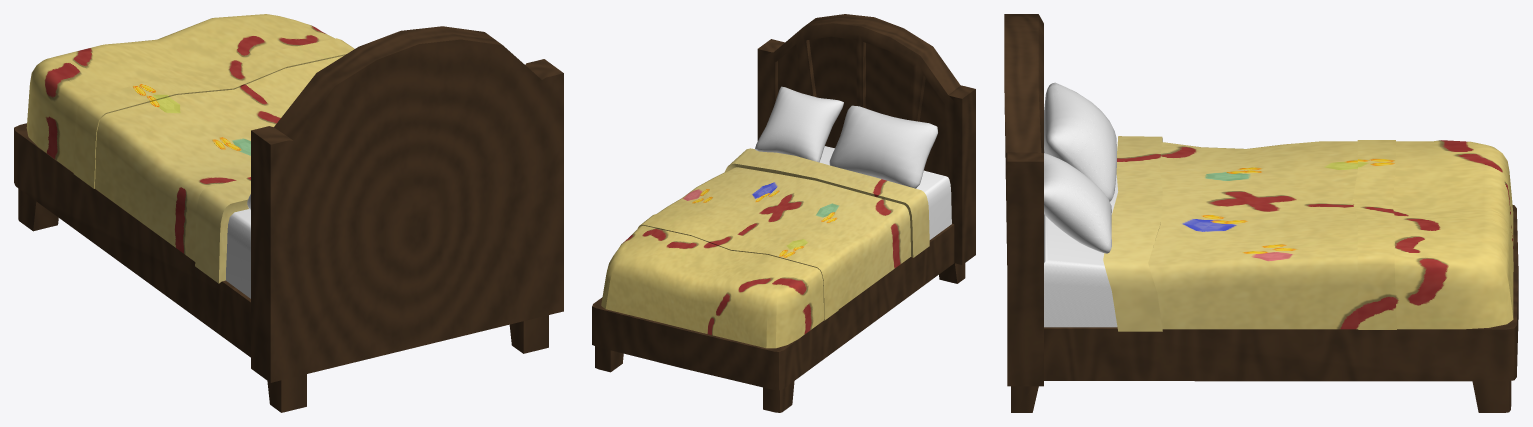
Rendered from Terromino - Bed.fbx.
3 renders of one model, left to right at view 1: azimuth 30°, elevation 25°; view 2: azimuth 150°, elevation 25°; view 3: azimuth 270°, elevation 25°, orthographic. The views are drawn at different scales.
Parts seen in each view (by area): view 1: Bed_Board, Bed_Sheets, Bed_Mattress; view 2: Bed_Sheets, Bed_Board, Bed_Pillow_Large, Bed_Pilow_Large, Bed_Mattress; view 3: Bed_Sheets, Bed_Board, Bed_Mattress, Bed_Pillow_Large, Bed_Pilow_Large.
Boxes of the visible parts, left/top/right/bottom form: Bed_Board: left=14, top=26, right=563, bottom=412; Bed_Sheets: left=26, top=14, right=354, bottom=283; Bed_Mattress: left=225, top=209, right=250, bottom=298; Bed_Sheets: left=601, top=148, right=929, bottom=348; Bed_Board: left=592, top=14, right=975, bottom=412; Bed_Pillow_Large: left=829, top=105, right=937, bottom=188; Bed_Pilow_Large: left=755, top=86, right=843, bottom=162; Bed_Mattress: left=819, top=146, right=951, bottom=239; Bed_Sheets: left=1103, top=136, right=1513, bottom=331; Bed_Board: left=1004, top=14, right=1518, bottom=412; Bed_Mattress: left=1044, top=148, right=1118, bottom=327; Bed_Pillow_Large: left=1044, top=82, right=1116, bottom=201; Bed_Pilow_Large: left=1044, top=153, right=1111, bottom=253.
Size of the model in its own units: 373 by 412 by 601.
Materials: 4 (4 with a texture image).
